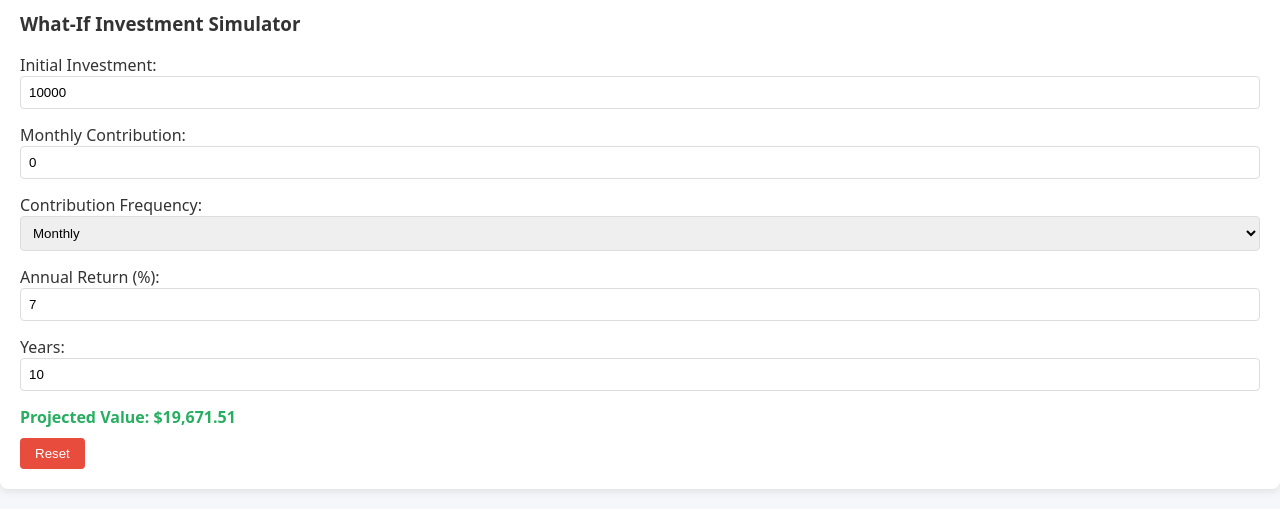
Scenario: What-If Investment Simulator › resets to default values
Replace the text in the number field labelled "Initial Investment:" with "50000" at (640, 93), box [20,76,1260,109]
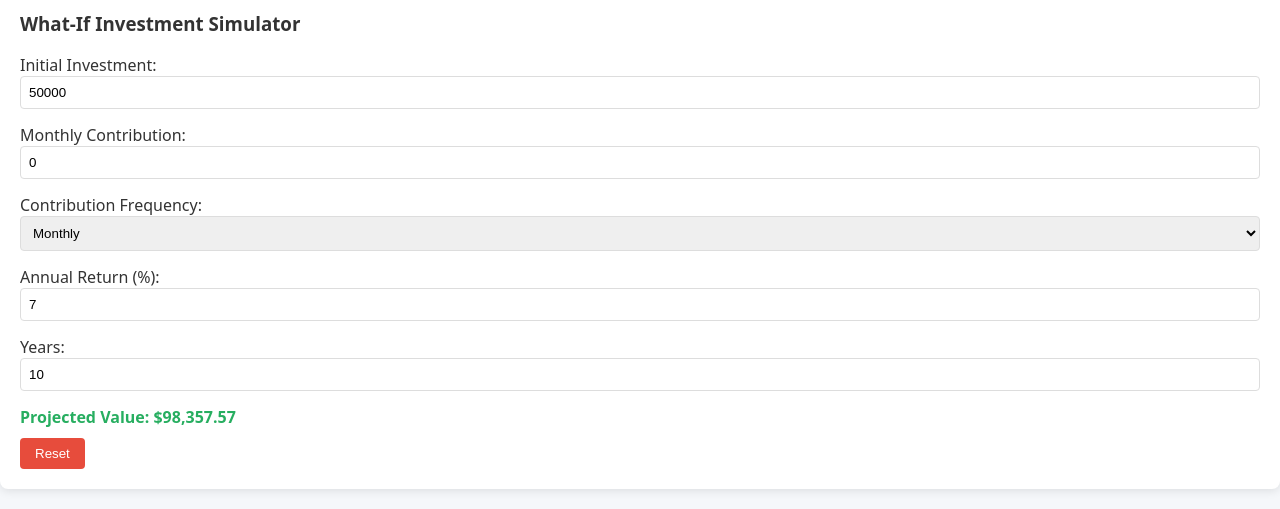
Click the button "Reset" at (52, 454), box [20,438,85,469]
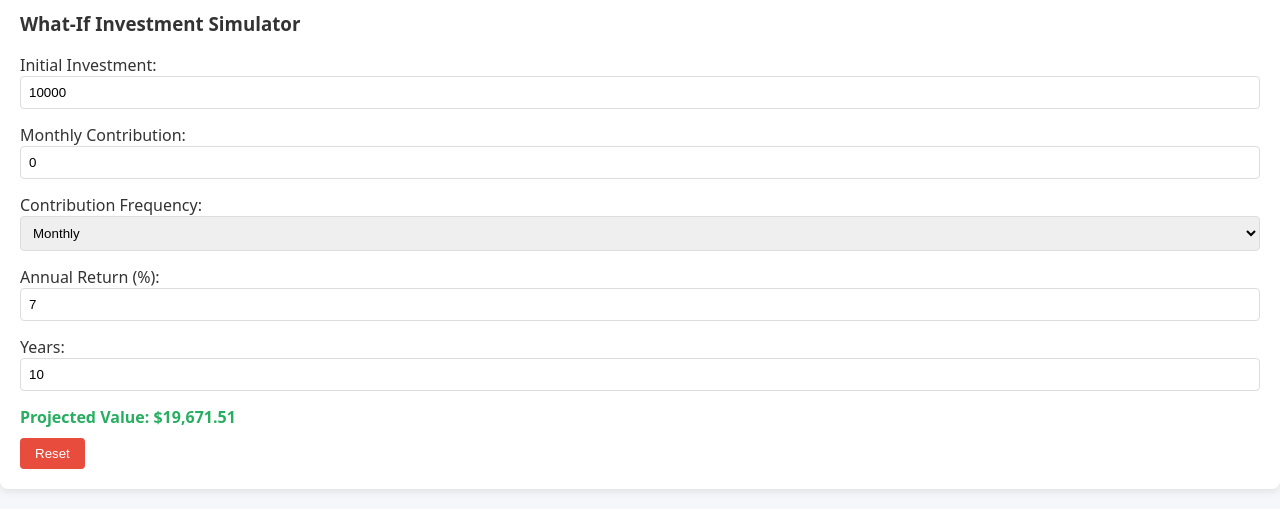
Expected: the number field labelled "Initial Investment:" holds "10000", [20,76,1260,109]
